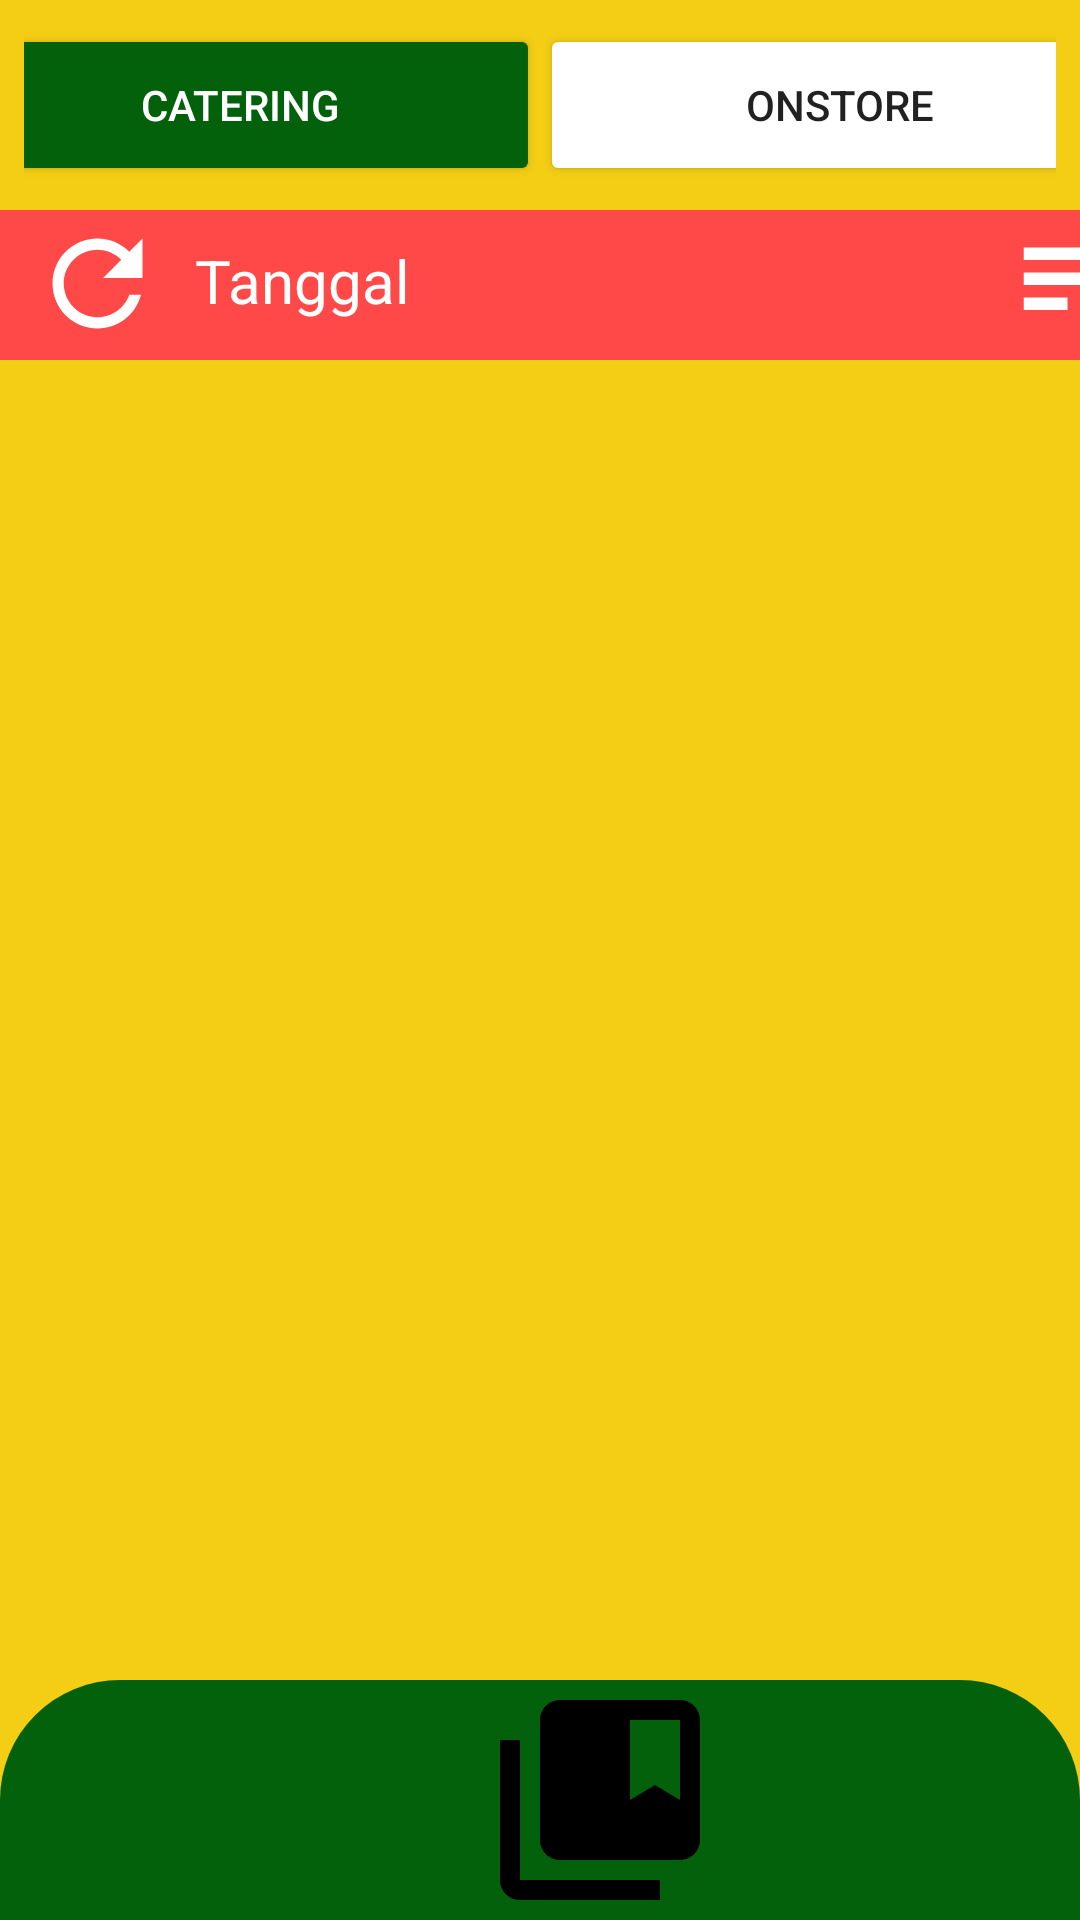

Icon click points for this 1080 x 1920 phone screenshot, format (x,y):
collections bookmark: (600,1800)
refresh: (97,283)
